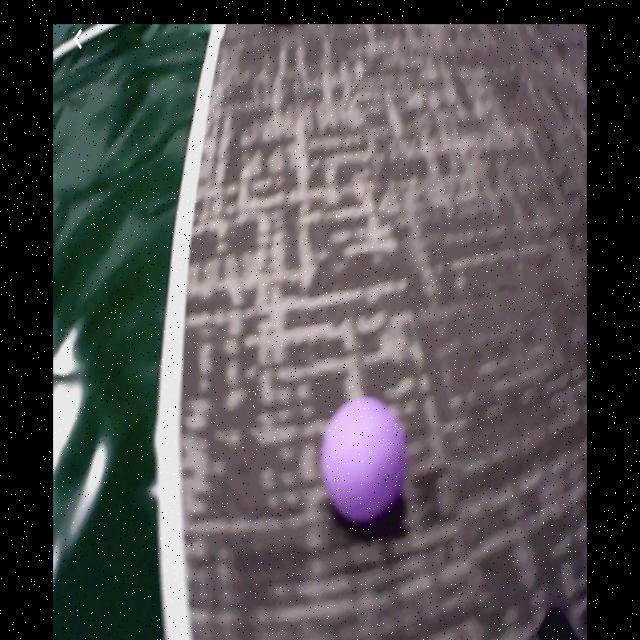ball: (323, 398, 406, 522)
